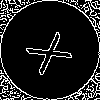X: (25, 25, 82, 77)
